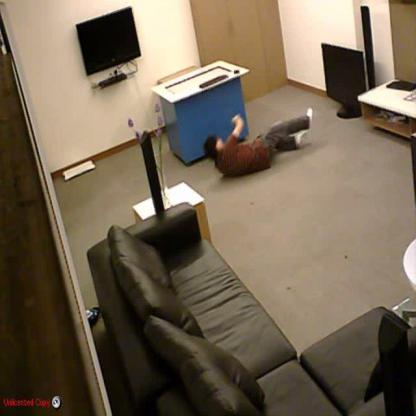Person: (202, 106, 312, 178)
